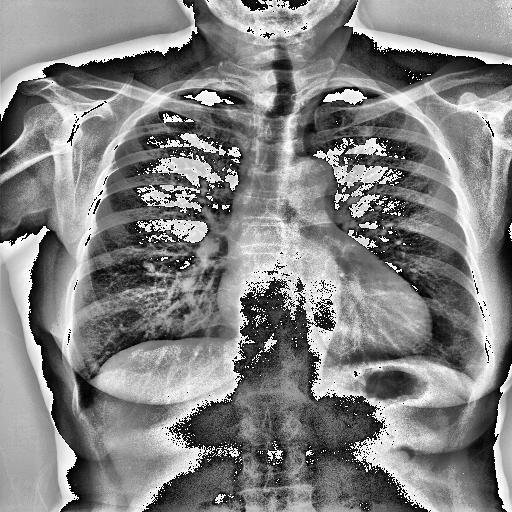0- Aortic enlargement: (270, 154, 338, 226)
10- Pleural effusion: (460, 351, 496, 406), (70, 374, 102, 432), (68, 385, 96, 415), (464, 366, 487, 390)
11- Pleural thickening: (460, 351, 496, 406), (70, 374, 102, 432), (68, 385, 96, 415), (464, 366, 487, 390)
8- Nodule-Mass: (142, 260, 155, 273)
